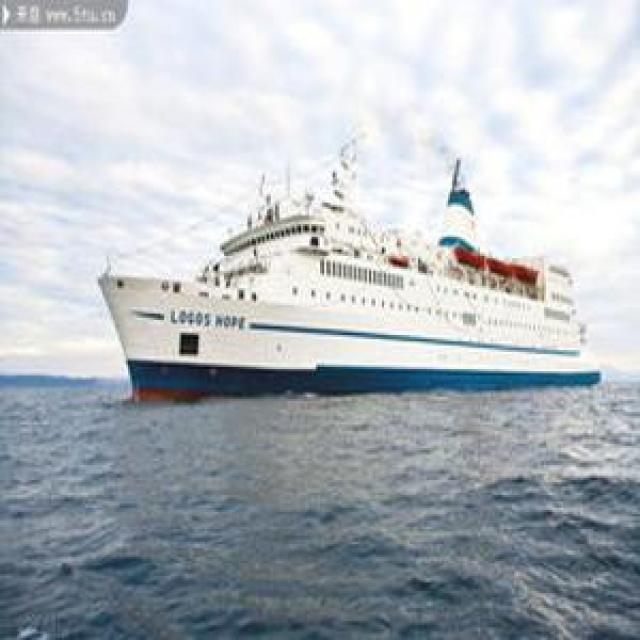passenger ship: (98, 131, 608, 395)
